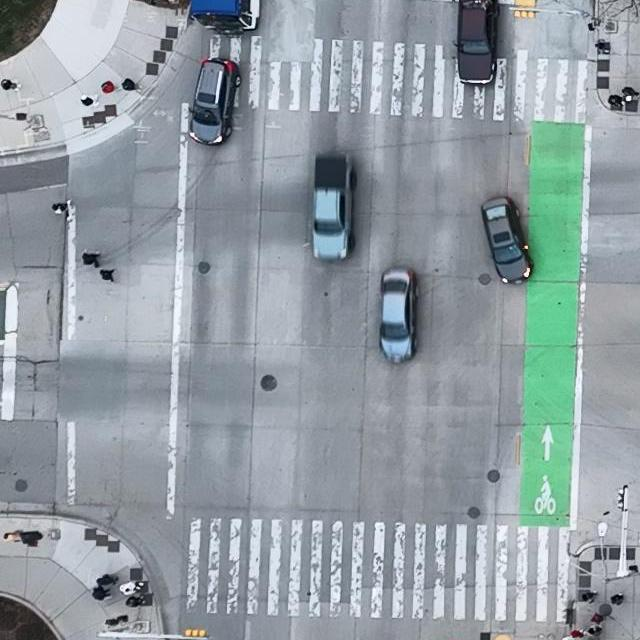car: (312, 152, 356, 263), (188, 57, 241, 146), (480, 196, 532, 284), (453, 0, 499, 85), (379, 267, 419, 363), (187, 0, 261, 34)
